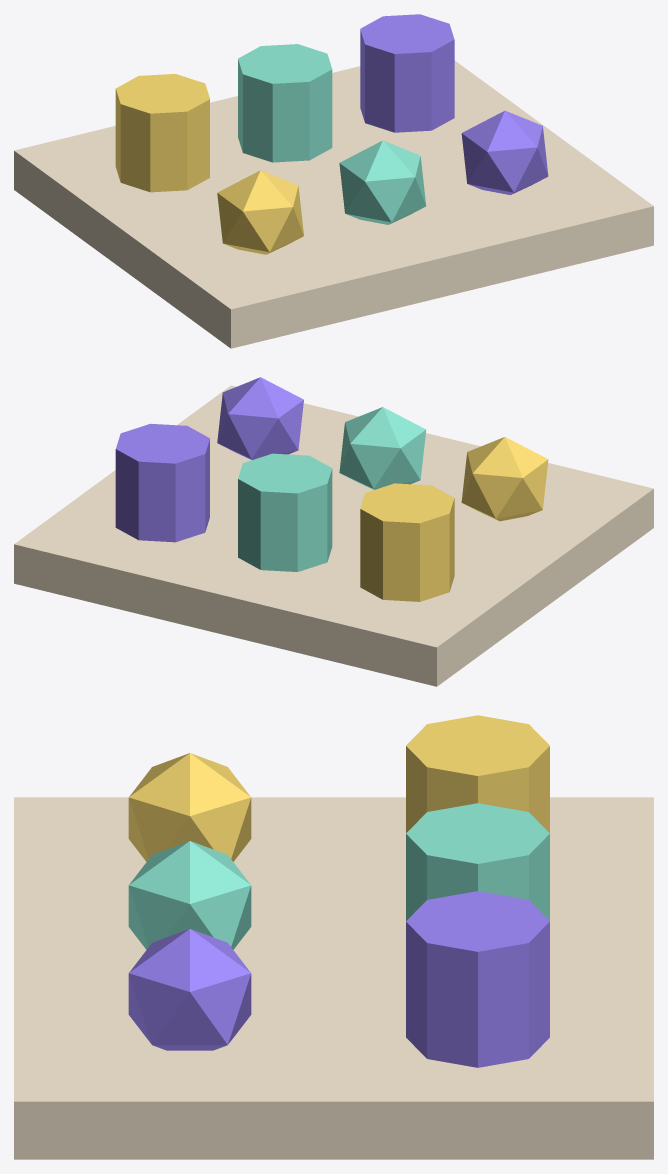
3 views of the same model, one above another, from view 1: azimuth 30°, elevation 25°; view 2: azimuth 150°, elevation 25°; view 3: azimuth 270°, elevation 25° (orthographic). The views are drawn at different scales.
Parts seen in each view (by area): view 1: Activity board, Sorting cup.002, Sorting cup.001, Sorting cup, Sorting piece.001, Sorting piece, Sorting piece.002; view 2: Activity board, Sorting cup.001, Sorting cup.002, Sorting cup, Sorting piece, Sorting piece.002, Sorting piece.001; view 3: Activity board, Sorting cup.002, Sorting cup.001, Sorting cup, Sorting piece.002, Sorting piece.001, Sorting piece.
Part boxes in pixels (box(x1,y1,x2,y2)): Activity board: box(14, 60, 653, 348); Sorting cup.002: box(360, 14, 454, 132); Sorting cup.001: box(238, 44, 332, 162); Sorting cup: box(115, 74, 209, 192); Sorting piece.001: box(339, 140, 426, 224); Sorting piece: box(217, 170, 303, 254); Sorting piece.002: box(461, 110, 548, 194); Activity board: box(14, 385, 653, 686); Sorting cup.001: box(238, 453, 332, 571); Sorting cup.002: box(115, 423, 209, 542); Sorting cup: box(360, 483, 454, 601); Sorting piece: box(461, 437, 548, 521); Sorting piece.002: box(217, 377, 303, 459); Sorting piece.001: box(339, 407, 426, 489); Activity board: box(14, 797, 653, 1159); Sorting cup.002: box(406, 891, 549, 1067); Sorting cup.001: box(406, 803, 549, 920); Sorting cup: box(406, 715, 549, 832); Sorting piece.002: box(128, 929, 251, 1050); Sorting piece.001: box(128, 841, 251, 949); Sorting piece: box(128, 753, 251, 861).
Size of the model in its own units: 45 by 12 by 40.
